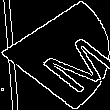M_NW: (7, 20, 103, 90)
